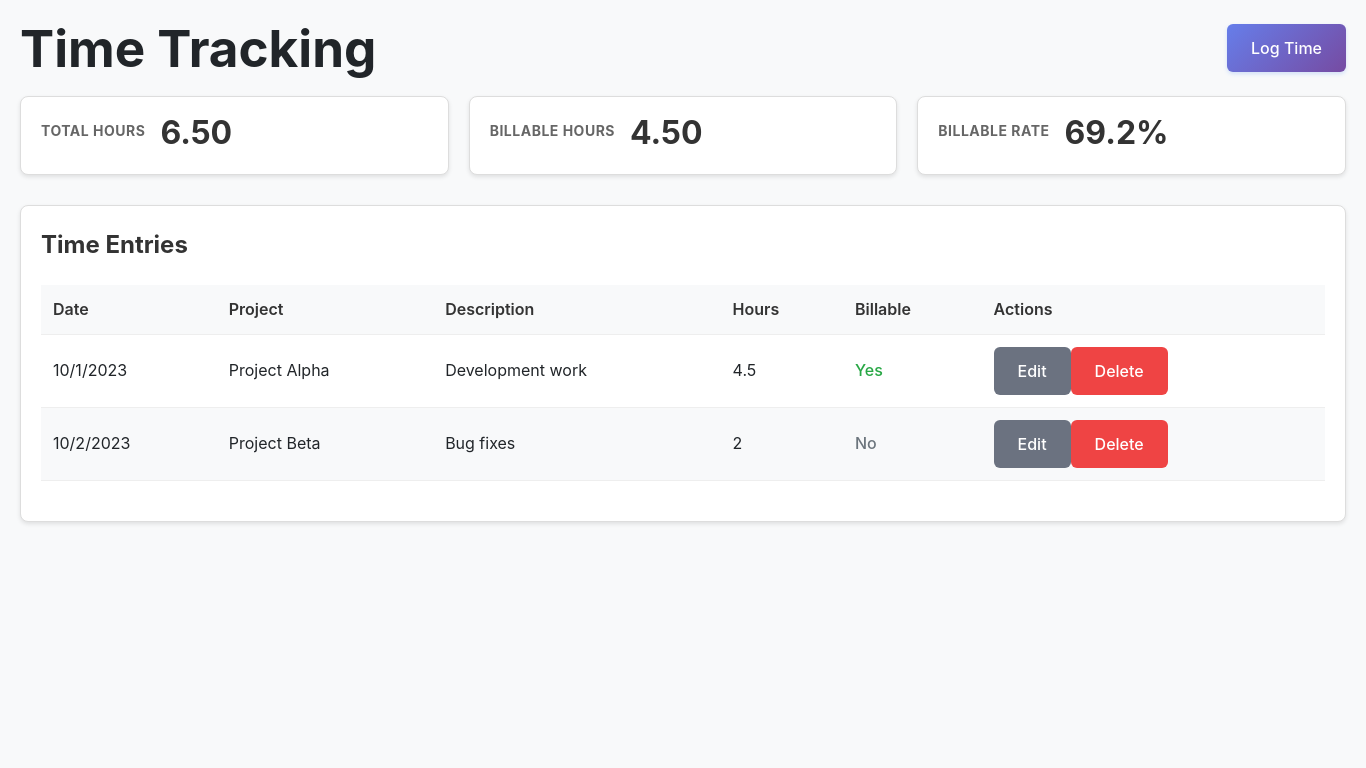
Test: TimeTracking › Time Entry Form › form elements work properly when shown
The image size is (1366, 768).
Click the button "Log Time" at (1286, 48), box [1227, 24, 1346, 72]
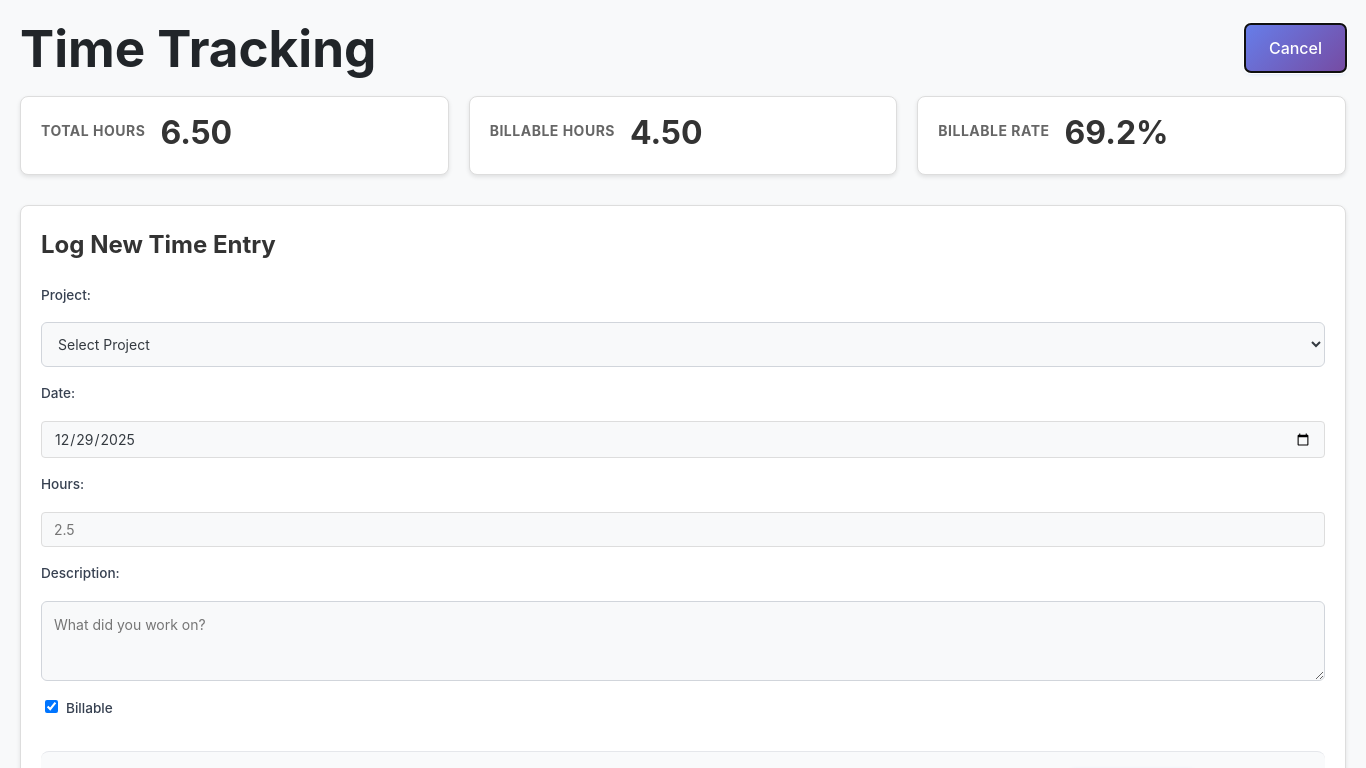
Expected: the number field is shown, [41, 512, 1325, 547]
Expected: the text box is shown, [41, 601, 1325, 681]
Expected: the checkbox labelled "Billable" is shown, [45, 700, 58, 713]
